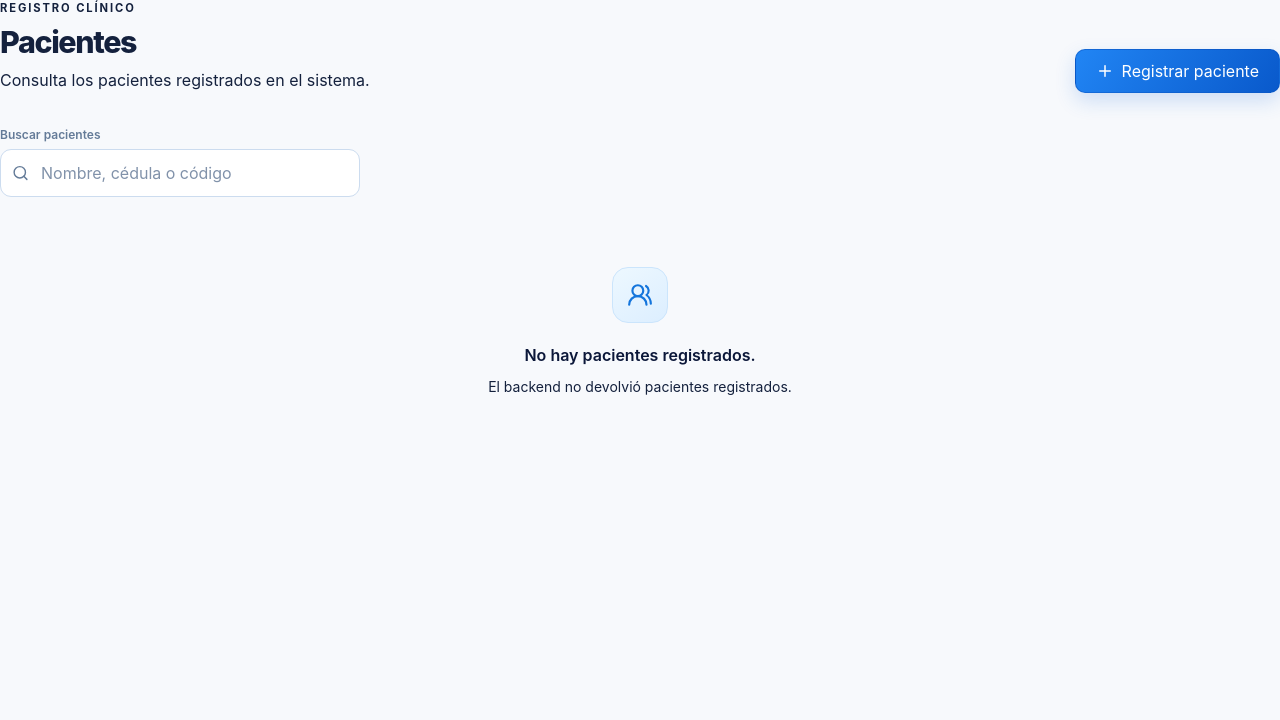
Test: patient views › sends exact fields with empty optionals as null, then refreshes GET after 201
Expected: the text "No hay pacientes registrados." is shown, x1=524 y1=343 x2=756 y2=367
Click the button "Registrar paciente": coordinates (1177, 71) x1=1075 y1=49 x2=1279 y2=93
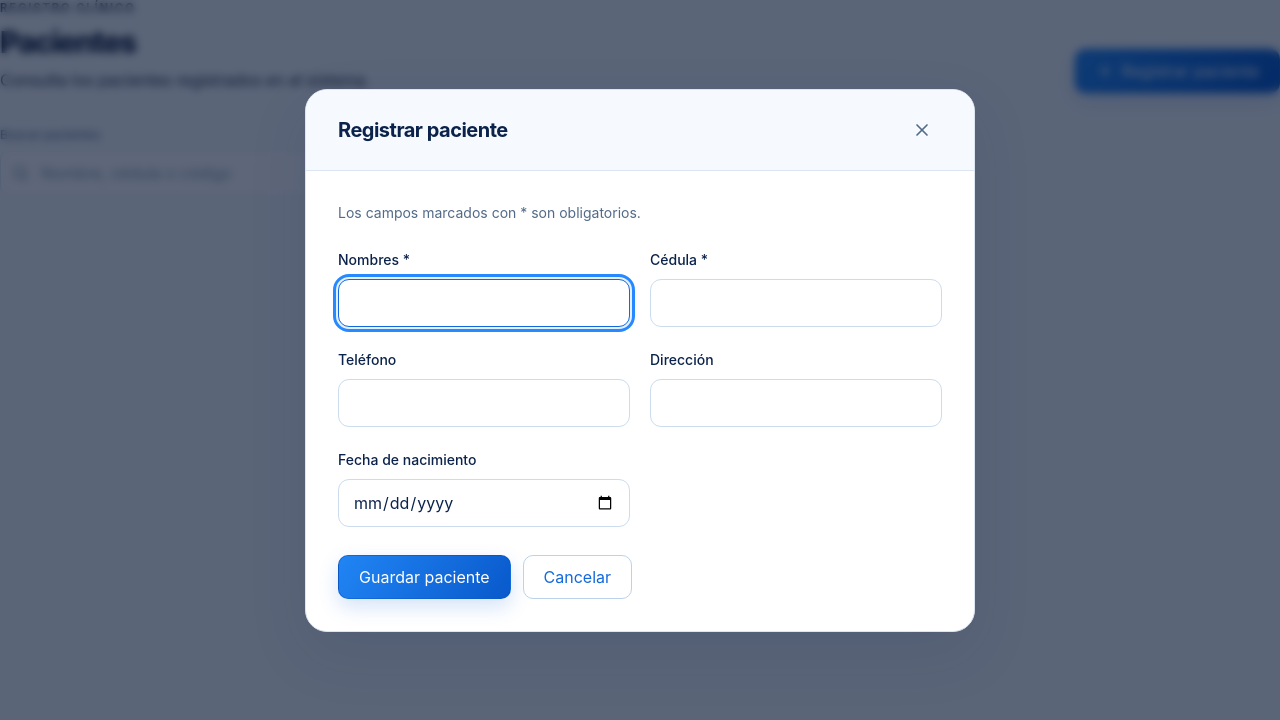
In the field labelled "Nombres *": coordinates (484, 302) x1=338 y1=278 x2=630 y2=326, type "Nombre recibido"
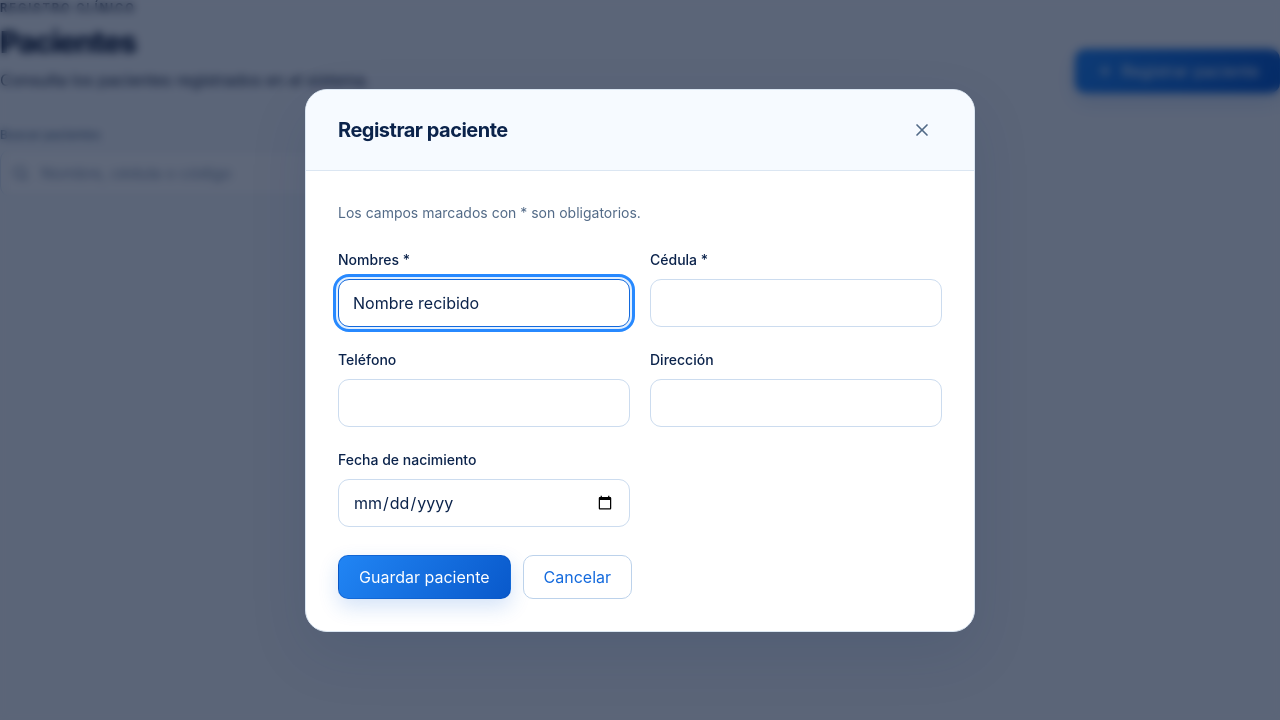
In the field labelled "Cédula *": coordinates (796, 302) x1=650 y1=278 x2=942 y2=326, type "0912345678"
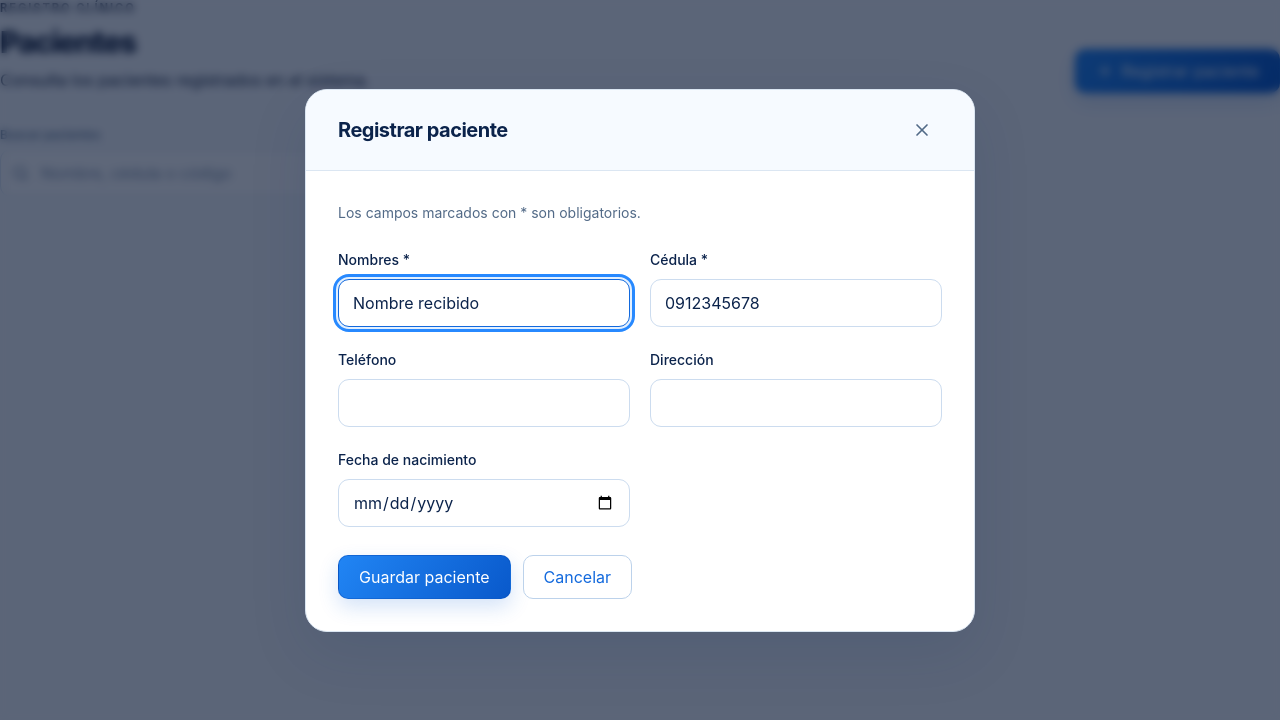
Click the button "Guardar paciente": coordinates (424, 576) x1=338 y1=554 x2=511 y2=598
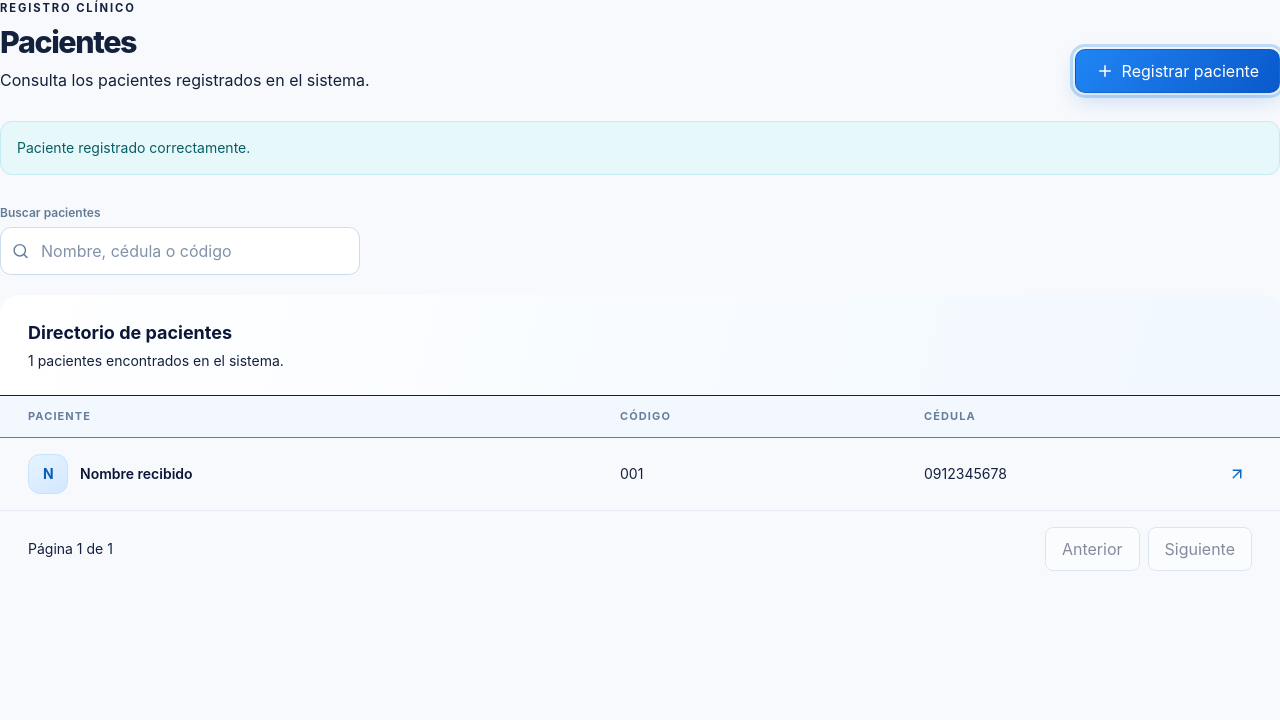
Expected: the text "Paciente registrado correctamente." is shown, x1=0 y1=121 x2=1279 y2=175
Expected: the link "N Nombre recibido 001 0912345678" is shown, x1=28 y1=454 x2=1246 y2=494
